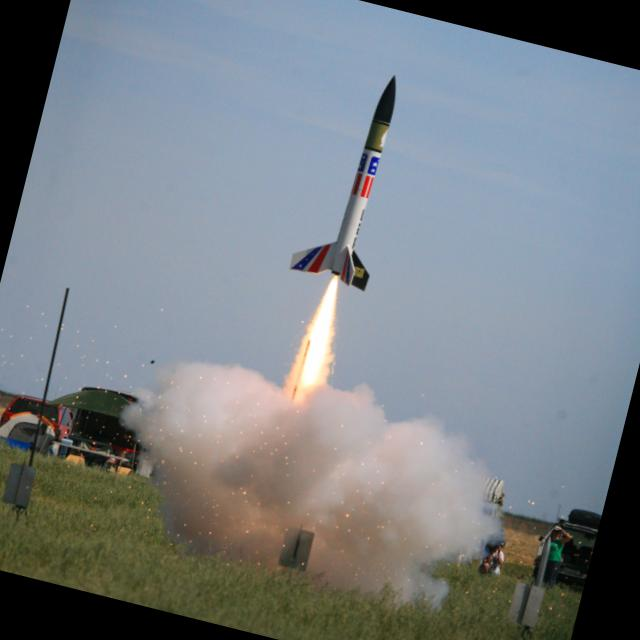rocket: (269, 60, 420, 385)
